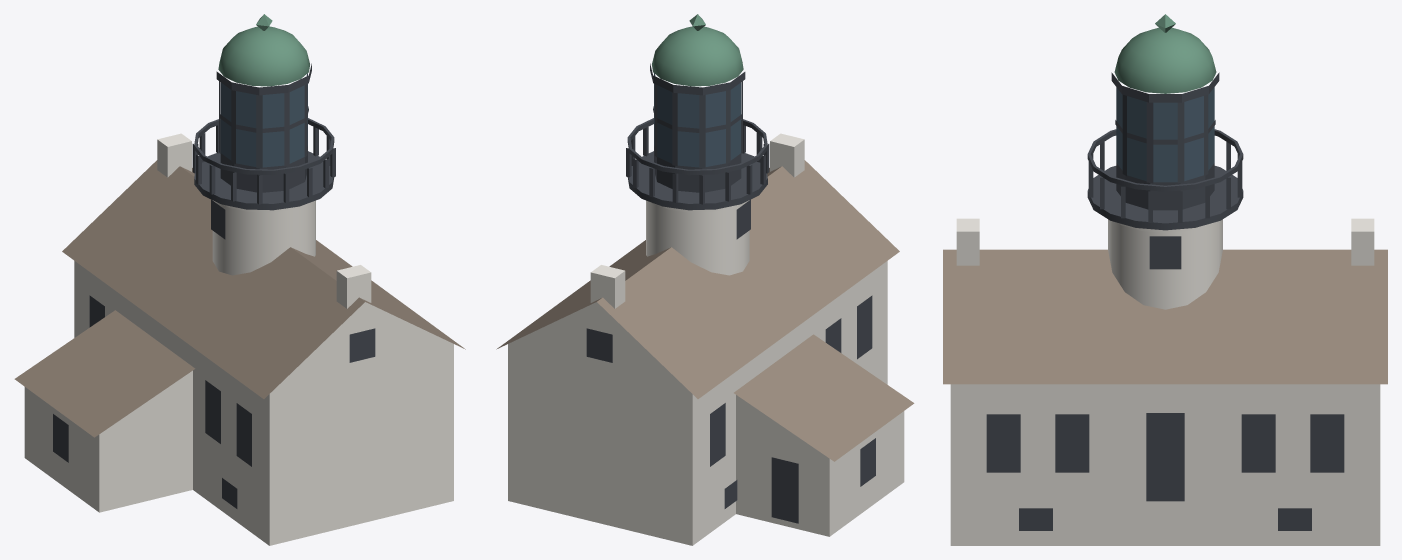
The model's file is sd-old-point-loma-lighthouse.glb.
3 views of the same model, side by side, from view 1: azimuth 30°, elevation 25°; view 2: azimuth 150°, elevation 25°; view 3: azimuth 270°, elevation 25° (orthographic). The views are drawn at different scales.
Visible parts, largest first — view 1: Old Point Loma Lighthouse; view 2: Old Point Loma Lighthouse; view 3: Old Point Loma Lighthouse.
Part boxes in pixels (x1=…): Old Point Loma Lighthouse: x1=14, y1=14, x2=465, y2=545; Old Point Loma Lighthouse: x1=496, y1=14, x2=914, y2=545; Old Point Loma Lighthouse: x1=943, y1=14, x2=1387, y2=545.
Size of the model in its own units: 9.77 by 13.88 by 11.6.
